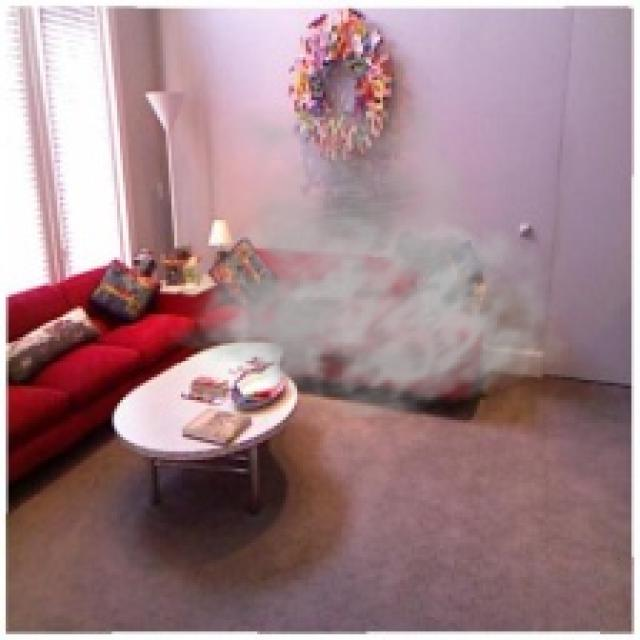smoke: (160, 74, 569, 420)
